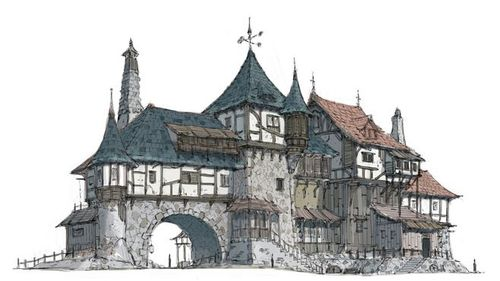buildings: (71, 74, 415, 269)
